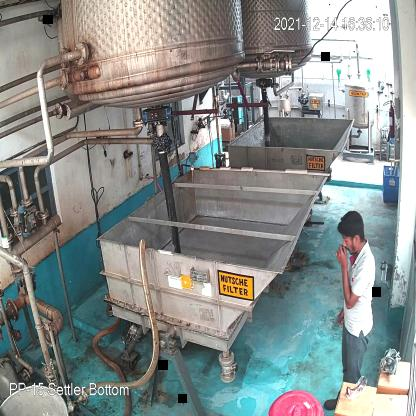no_goggles: (338, 232, 360, 245)
